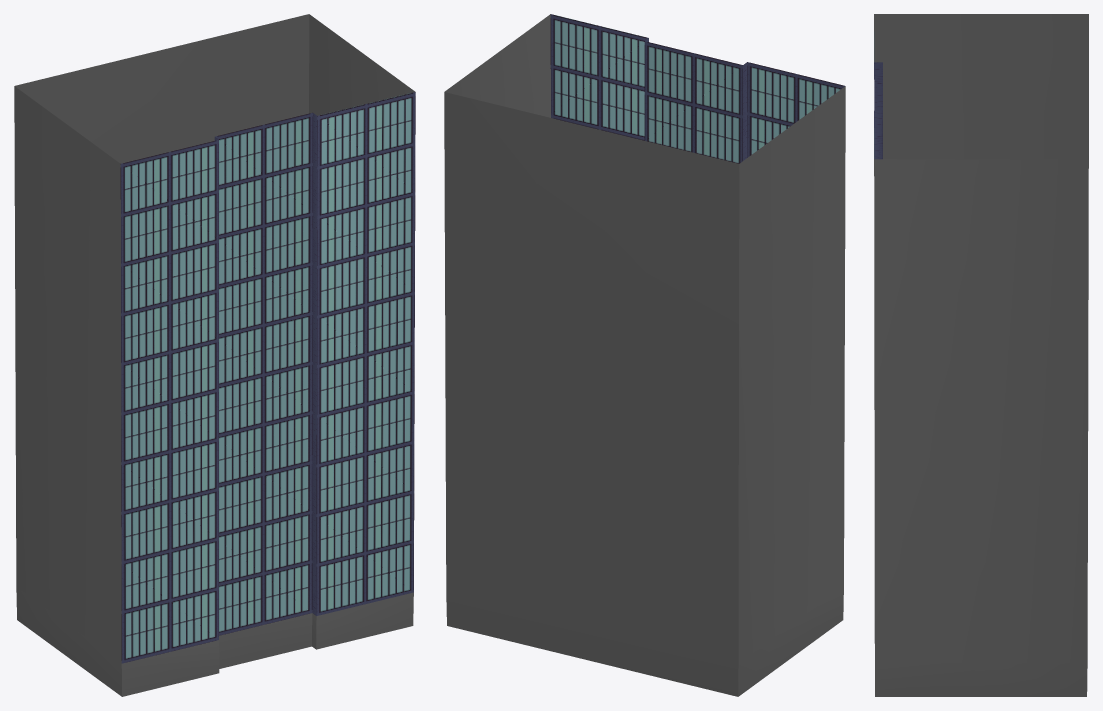
The model's file is skyscraper.glb.
The picture shows the model from 3 angles, left to right: view 1: azimuth 30°, elevation 25°; view 2: azimuth 150°, elevation 25°; view 3: azimuth 270°, elevation 25°; orthographic projection.
Visible parts, largest first — view 1: Cube; view 2: Cube; view 3: Cube.
Part boxes in pixels (left/top/right/bottom): Cube: left=14, top=14, right=415, bottom=696; Cube: left=444, top=14, right=845, bottom=696; Cube: left=874, top=14, right=1088, bottom=696.
Size of the model in its own units: 24.7 by 42.74 by 15.44.
Materials: 2 (1 with a texture image).
